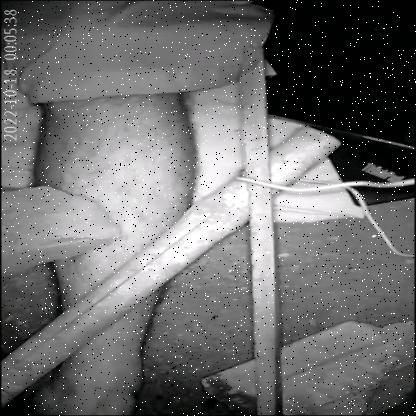leg: (22, 110, 199, 416)
